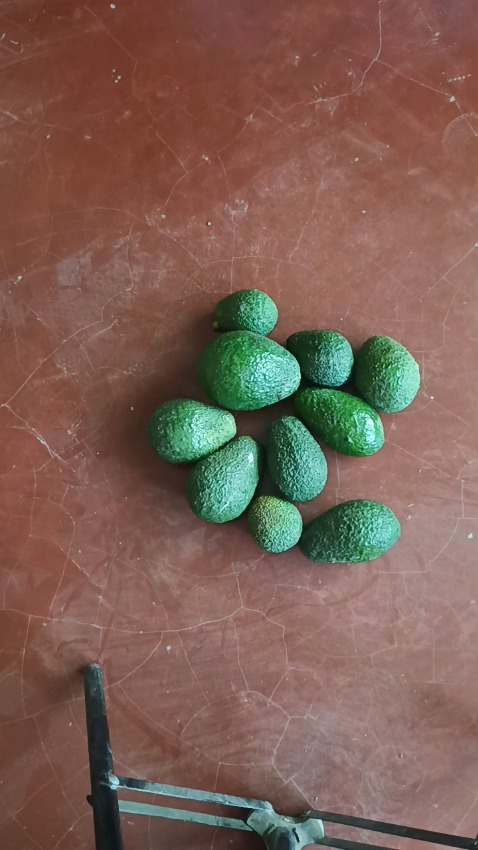Primera: (198, 331, 302, 411)
Segunda: (292, 386, 385, 457), (300, 499, 402, 563), (186, 435, 261, 522), (148, 399, 237, 464), (352, 335, 421, 412), (265, 415, 326, 501)
Tercera: (284, 329, 354, 388), (245, 494, 302, 552), (211, 289, 278, 337)
